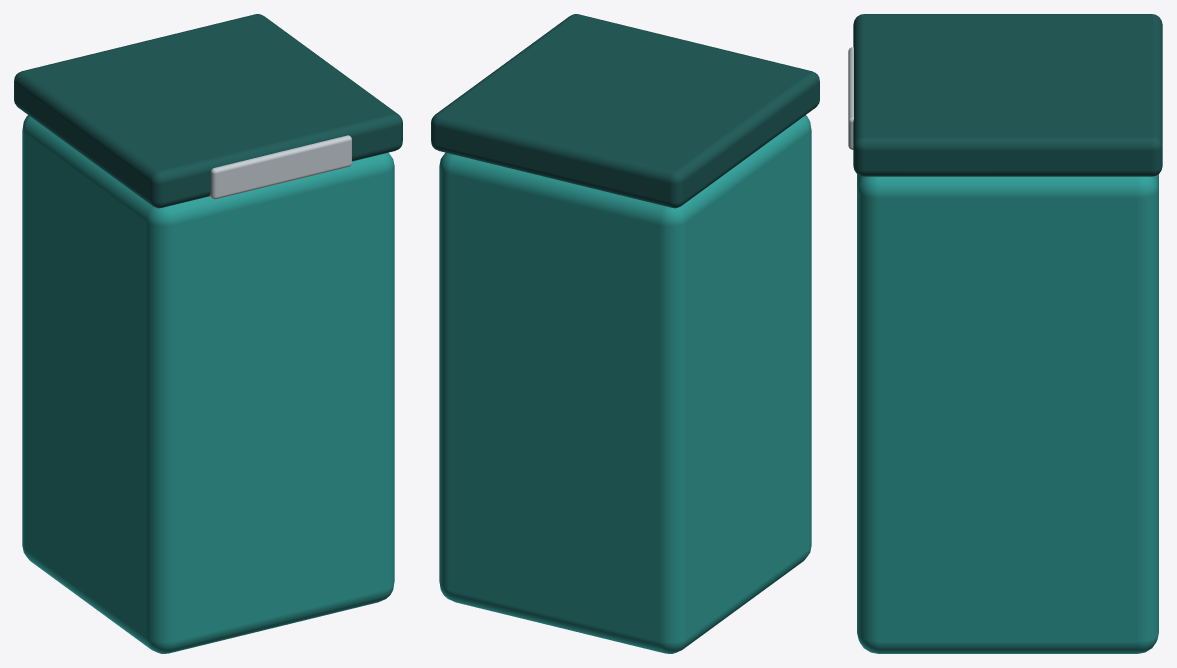
The model's file is SM_BinSquare.glb.
The picture shows the model from 3 angles, left to right: view 1: azimuth 30°, elevation 25°; view 2: azimuth 150°, elevation 25°; view 3: azimuth 270°, elevation 25°; orthographic projection. The views are drawn at different scales.
Parts seen in each view (by area): view 1: SM_BinSquare, Flap; view 2: SM_BinSquare; view 3: SM_BinSquare, Flap.
Boxes of the visible parts, <box> form: SM_BinSquare: <box>14,14,402,653</box>; Flap: <box>209,135,351,199</box>; SM_BinSquare: <box>431,14,819,653</box>; SM_BinSquare: <box>853,14,1162,653</box>; Flap: <box>848,47,853,149</box>.
Size of the model in its own units: 0.43 by 0.8 by 0.437.
2 materials, 2 textured.
